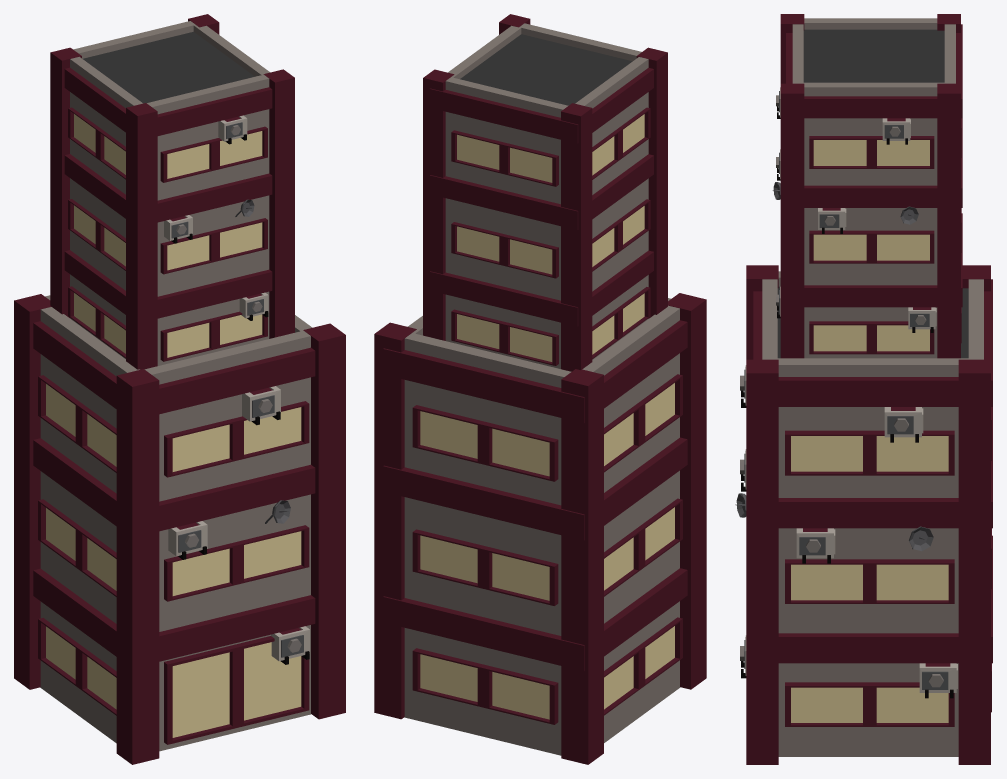
Rendered from BuildingB.fbx.
3 renders of one model, left to right at view 1: azimuth 30°, elevation 25°; view 2: azimuth 150°, elevation 25°; view 3: azimuth 270°, elevation 25°, orthographic. The views are drawn at different scales.
Parts seen in each view (by area): view 1: Cylinder.020_Cylinder.006; view 2: Cylinder.020_Cylinder.006; view 3: Cylinder.020_Cylinder.006.
Boxes of the visible parts, x1,y1,x2,y2 form: Cylinder.020_Cylinder.006: (14,14,345,764); Cylinder.020_Cylinder.006: (374,14,706,764); Cylinder.020_Cylinder.006: (735,14,992,764).
Size of the model in its own units: 4.59 by 12.61 by 4.5.
